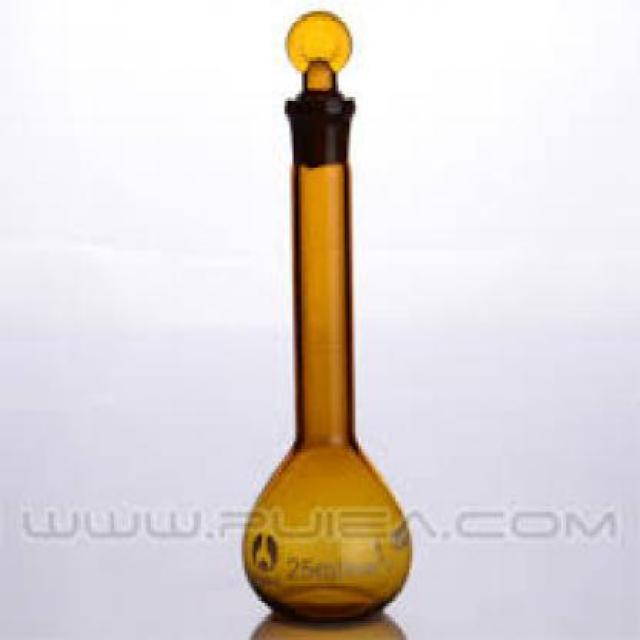kaca: (240, 9, 411, 620)
